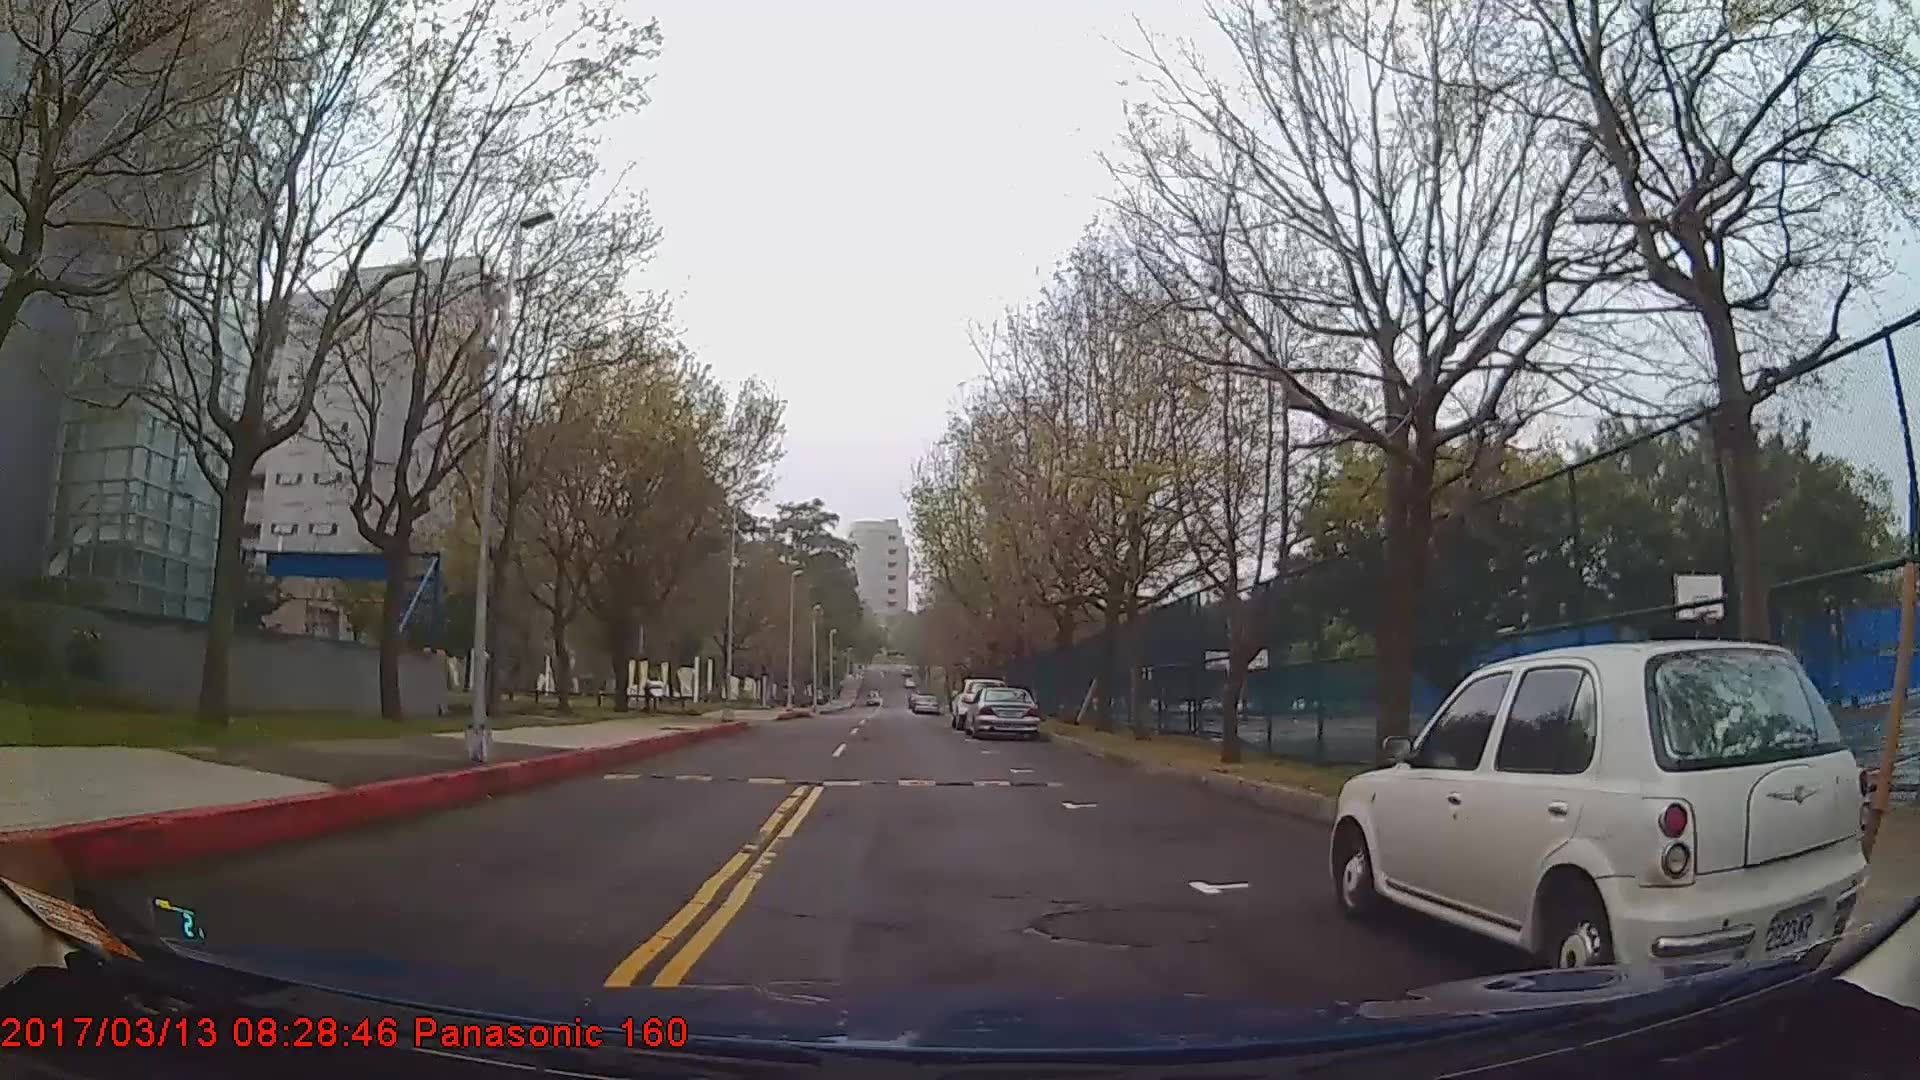vehicle: (1332, 640, 1873, 988), (964, 682, 1040, 736), (910, 694, 939, 716)
